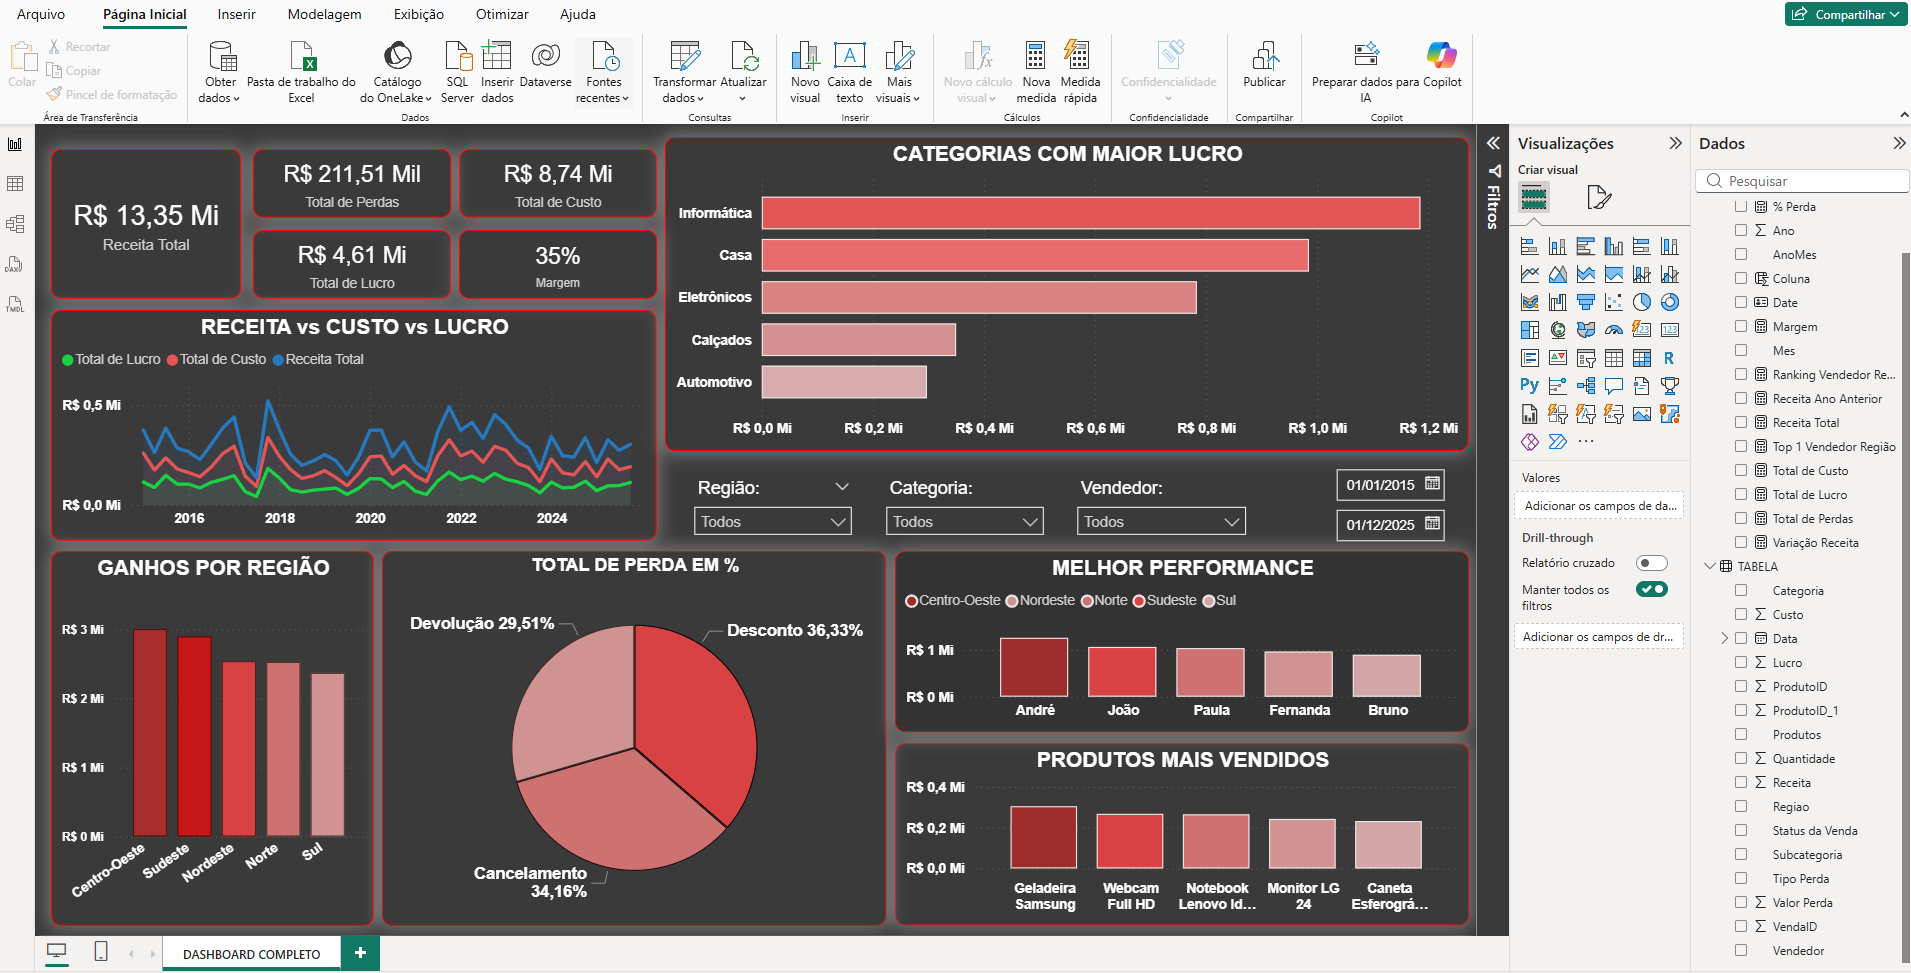

The page's visual inventory and layout, read from the dashboard file:
{"tool":"powerbi","page":{"name":"DASHBOARD COMPLETO","canvas":[1280,720],"ordinal":0},"visuals":[{"type":"card","fields":{"Values":["Calendario.Receita Total"]},"box":[14.6,22.4,169.2,133.3],"z":0},{"type":"card","fields":{"Values":["Calendario.Custo Total"]},"box":[376.4,22.4,176,61.3],"z":1000},{"type":"card","fields":{"Values":["Calendario.Lucro Total"]},"box":[193.6,94.3,176,61.3],"z":2000},{"type":"card","fields":{"Values":["Calendario.Total Perdas"]},"box":[193.6,22.4,176,61.3],"z":3000},{"type":"lineChart","title":"RECEITA vs LUCRO vs LUCRO","fields":{"Category":["TABELA.Data.Variation.Hierarquia de datas.Ano","TABELA.Data.Variation.Hierarquia de datas.Trimestre","TABELA.Data.Variation.Hierarquia de datas.Mês","TABELA.Data.Variation.Hierarquia de datas.Dia"],"Y":["Calendario.Lucro Total","Calendario.Custo Total","Calendario.Receita Total"]},"box":[14.6,165.3,537.9,205.2],"z":4000},{"type":"barChart","title":"CATEGORIAS COM MAIOR LUCRO","fields":{"Category":["TABELA.Categoria"],"Y":["Calendario.Lucro Total"]},"box":[559.3,11.7,713.9,279.1],"z":5000},{"type":"lineStackedColumnComboChart","title":"GANHOS POR REGIÃO","fields":{"Category":["TABELA.Regiao"],"Y":["Calendario.Receita Total"]},"box":[14.6,379.3,286.9,332.6],"z":6000},{"type":"columnChart","title":"PRODUTOS MAIS VENDIDOS","fields":{"Category":["TABELA.Produtos"],"Y":["Calendario.Receita Total"]},"box":[763.5,549.5,509.7,162.4],"z":7000},{"type":"pieChart","title":"TOTAL DE PERDA EM %","fields":{"Category":["TABELA.Tipo Perda"],"Y":["Calendario.% Perda"]},"box":[308.3,379.3,448.4,332.6],"z":8000},{"type":"columnChart","title":"MELHOR PERFORMANCE","fields":{"Category":["TABELA.Vendedor"],"Series":["TABELA.Regiao"],"Y":["Calendario.Receita Total"]},"box":[763.5,379.3,509.7,161.5],"z":9000},{"type":"card","fields":{"Values":["Calendario.MARGEM"]},"box":[376.4,94.3,176,61.3],"z":10000},{"type":"slicer","fields":{"Values":["TABELA.Regiao"]},"box":[575.8,310.3,160.5,60.3],"z":11000},{"type":"slicer","fields":{"Values":["TABELA.Categoria","TABELA.Subcategoria"]},"box":[746,310.3,160.5,60.3],"z":12000},{"type":"slicer","title":"D","fields":{"Values":["TABELA.Data"]},"box":[1142.9,296.7,121.6,79],"z":13000},{"type":"slicer","fields":{"Values":["TABELA.Vendedor"]},"box":[916.2,310.3,170.2,60.3],"z":14000}]}

Visuals, with their boxes on the page's 1280x720 design canvas (x1, y1, x2, y2). These are canvas units, not pixel positions in the 1911x973 screenshot, which may show the page scaled, cropped or inside an application window:
card - Calendario.Receita Total: bbox=(15, 22, 184, 156)
card - Calendario.Custo Total: bbox=(376, 22, 552, 84)
card - Calendario.Lucro Total: bbox=(194, 94, 370, 156)
card - Calendario.Total Perdas: bbox=(194, 22, 370, 84)
"RECEITA vs LUCRO vs LUCRO" lineChart: bbox=(15, 165, 552, 370)
"CATEGORIAS COM MAIOR LUCRO" barChart: bbox=(559, 12, 1273, 291)
"GANHOS POR REGIÃO" lineStackedColumnComboChart: bbox=(15, 379, 302, 712)
"PRODUTOS MAIS VENDIDOS" columnChart: bbox=(764, 550, 1273, 712)
"TOTAL DE PERDA EM %" pieChart: bbox=(308, 379, 757, 712)
"MELHOR PERFORMANCE" columnChart: bbox=(764, 379, 1273, 541)
card - Calendario.MARGEM: bbox=(376, 94, 552, 156)
slicer - TABELA.Regiao: bbox=(576, 310, 736, 371)
slicer - TABELA.Categoria x TABELA.Subcategoria: bbox=(746, 310, 906, 371)
"D" slicer: bbox=(1143, 297, 1264, 376)
slicer - TABELA.Vendedor: bbox=(916, 310, 1086, 371)
